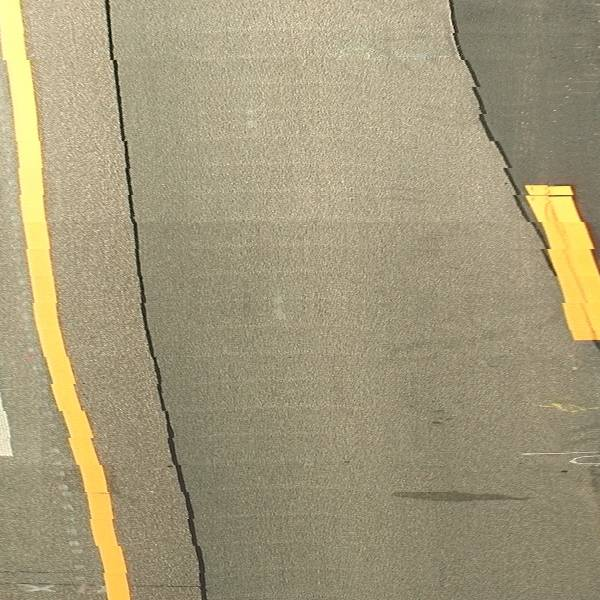road_damage: (101, 1, 212, 600), (448, 1, 560, 279), (389, 483, 539, 504)
